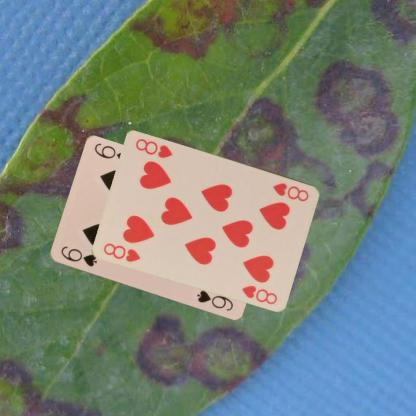6s: (58, 243, 98, 268)
8h: (101, 240, 142, 263), (270, 180, 310, 202)
